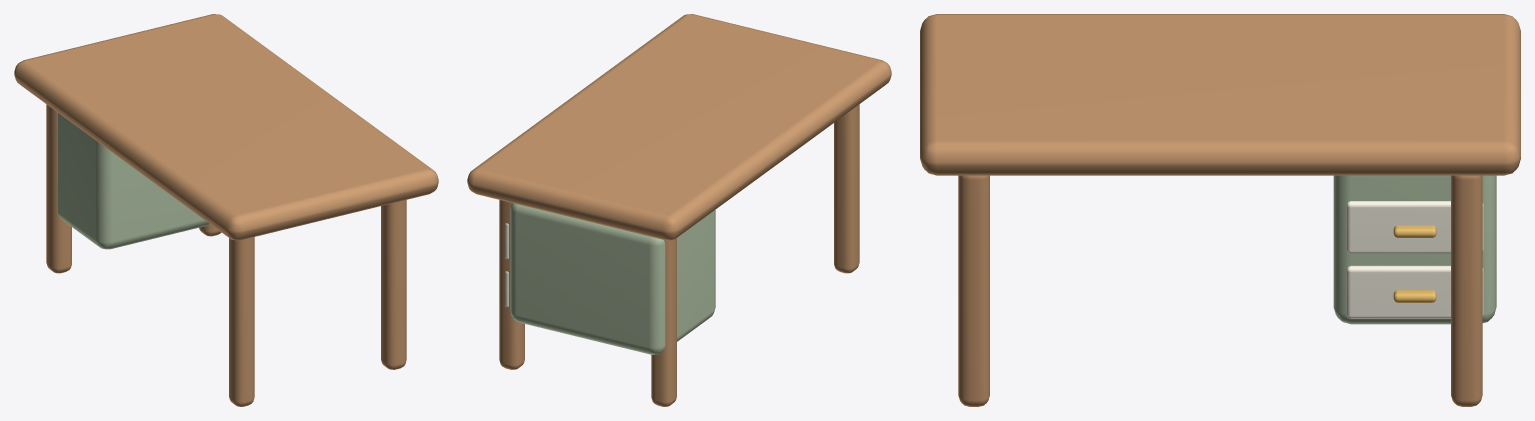
File: deskWoodB.glb
3 renders of one model, left to right at view 1: azimuth 30°, elevation 25°; view 2: azimuth 150°, elevation 25°; view 3: azimuth 270°, elevation 25°, orthographic. The views are drawn at different scales.
Visible parts, largest first — view 1: Rounded tabletop, Drawer unit, Leg.001, Leg, Leg.003; view 2: Rounded tabletop, Drawer unit, Leg.001, Leg.003, Leg.002; view 3: Rounded tabletop, Drawer unit, Leg, Leg.002, Drawer face, Drawer face.001, Drawer handle.001, Drawer handle.
Part boxes in pixels (x1,y1,x2,y2): Rounded tabletop: (14, 14, 438, 240); Drawer unit: (58, 113, 210, 249); Leg.001: (229, 237, 254, 406); Leg: (381, 200, 406, 369); Leg.003: (46, 104, 71, 273); Rounded tabletop: (467, 14, 891, 240); Drawer unit: (510, 203, 715, 354); Leg.001: (834, 104, 859, 273); Leg.003: (651, 238, 676, 406); Leg.002: (499, 200, 524, 369); Rounded tabletop: (920, 14, 1520, 175); Drawer unit: (1333, 175, 1496, 324); Leg: (958, 175, 989, 406); Leg.002: (1451, 175, 1482, 406); Drawer face: (1346, 265, 1483, 318); Drawer face.001: (1346, 201, 1483, 253); Drawer handle.001: (1393, 225, 1436, 237); Drawer handle: (1393, 290, 1436, 302).
Bounding box in the file's own units: 1.15 × 1.06 × 2.1.
